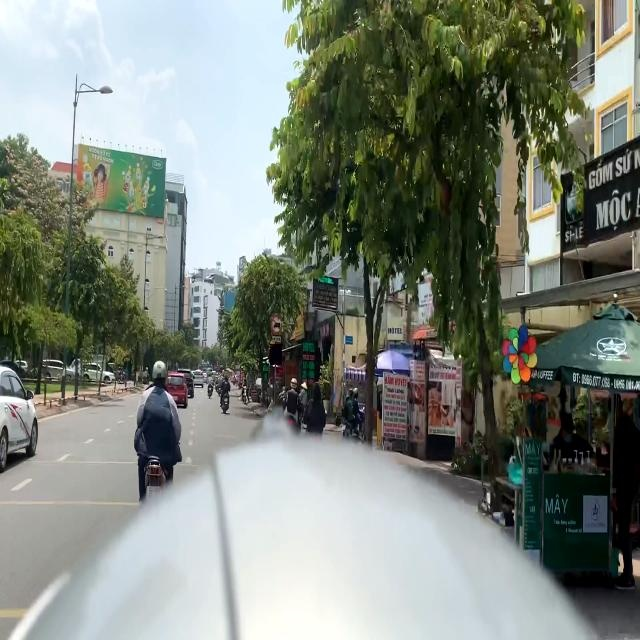bien_cam: (271, 313, 283, 335), (270, 344, 282, 365)
